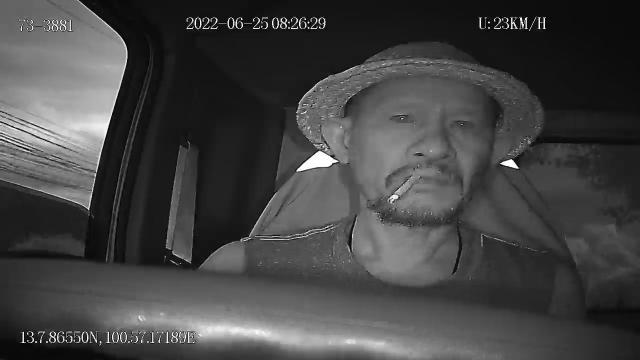SafeDriving: (442, 110, 480, 136), (383, 103, 422, 128)
Smoking: (389, 174, 418, 209)
